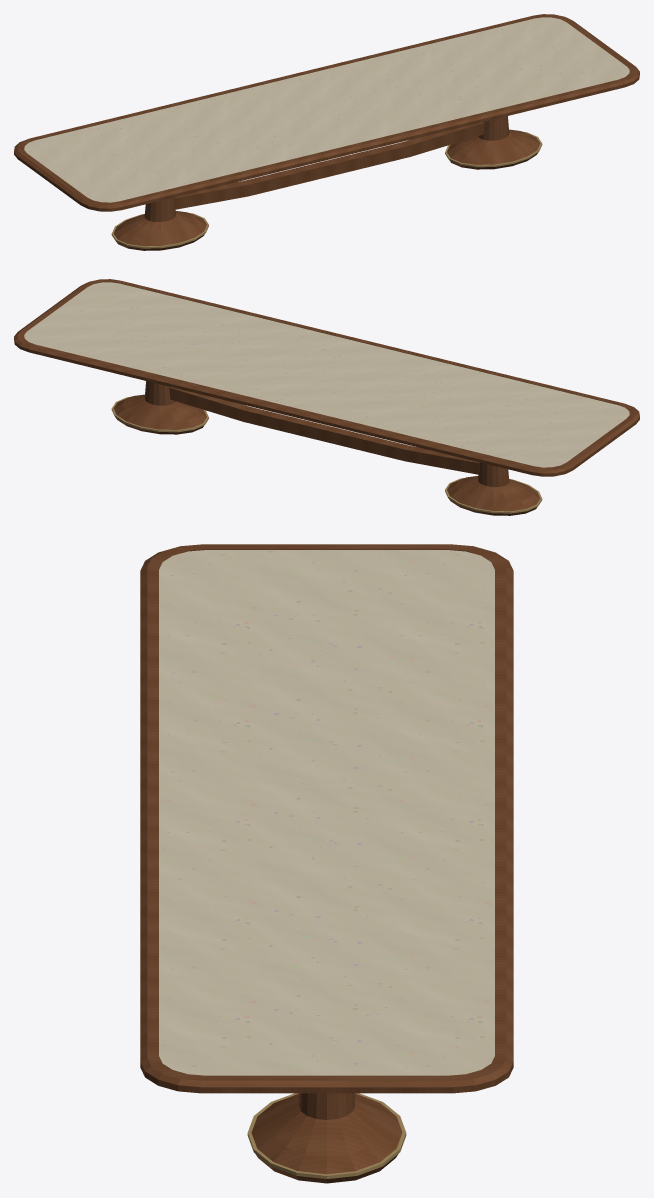
Rendered from AST-DIN-007.glb.
3 renders of one model, top to bottom at view 1: azimuth 30°, elevation 25°; view 2: azimuth 150°, elevation 25°; view 3: azimuth 270°, elevation 25°, orthographic. The views are drawn at different scales.
Parts seen in each view (by area): view 1: ORCH_InsetStoneSurface, ORCH_ProfiledCommunalRim, ORCH_LowStretcher, ORCH_TopInlay, ORCH_TablePedestal_-1.65, ORCH_TablePedestal_1.65, ORCH_FootBand_-1.65, ORCH_FootBand_1.65; view 2: ORCH_InsetStoneSurface, ORCH_ProfiledCommunalRim, ORCH_LowStretcher, ORCH_TopInlay, ORCH_TablePedestal_-1.65, ORCH_TablePedestal_1.65, ORCH_FootBand_-1.65, ORCH_FootBand_1.65; view 3: ORCH_InsetStoneSurface, ORCH_TopInlay, ORCH_ProfiledCommunalRim, ORCH_TablePedestal_1.65, ORCH_FootBand_1.65.
Boxes of the visible parts, left/top/right/bottom form: ORCH_InsetStoneSurface: left=24, top=17, right=629, bottom=202; ORCH_ProfiledCommunalRim: left=14, top=16, right=639, bottom=211; ORCH_LowStretcher: left=174, top=122, right=484, bottom=209; ORCH_TopInlay: left=17, top=14, right=636, bottom=205; ORCH_TablePedestal_-1.65: left=113, top=197, right=206, bottom=250; ORCH_TablePedestal_1.65: left=447, top=116, right=540, bottom=169; ORCH_FootBand_-1.65: left=111, top=213, right=208, bottom=248; ORCH_FootBand_1.65: left=445, top=131, right=542, bottom=167; ORCH_InsetStoneSurface: left=24, top=282, right=629, bottom=467; ORCH_ProfiledCommunalRim: left=14, top=281, right=639, bottom=476; ORCH_LowStretcher: left=169, top=387, right=479, bottom=474; ORCH_TopInlay: left=17, top=279, right=636, bottom=470; ORCH_TablePedestal_-1.65: left=447, top=462, right=540, bottom=515; ORCH_TablePedestal_1.65: left=113, top=381, right=206, bottom=434; ORCH_FootBand_-1.65: left=445, top=478, right=542, bottom=513; ORCH_FootBand_1.65: left=111, top=396, right=208, bottom=432; ORCH_InsetStoneSurface: left=159, top=550, right=494, bottom=1075; ORCH_TopInlay: left=147, top=544, right=506, bottom=1080; ORCH_ProfiledCommunalRim: left=140, top=549, right=513, bottom=1093; ORCH_TablePedestal_1.65: left=251, top=1093, right=402, bottom=1183; ORCH_FootBand_1.65: left=247, top=1093, right=406, bottom=1178.
Bounding box in the file's own units: 5.5 × 0.79 × 1.6.
Materials: 3 (3 with a texture image).
